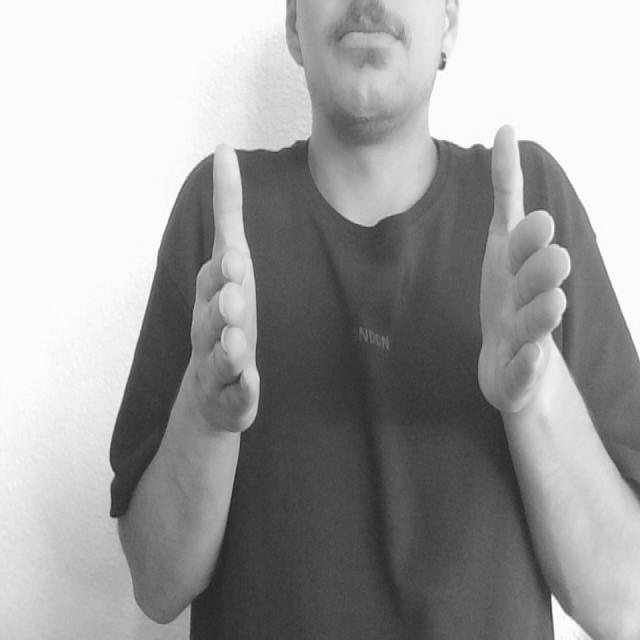Nasil: (180, 114, 582, 449)
